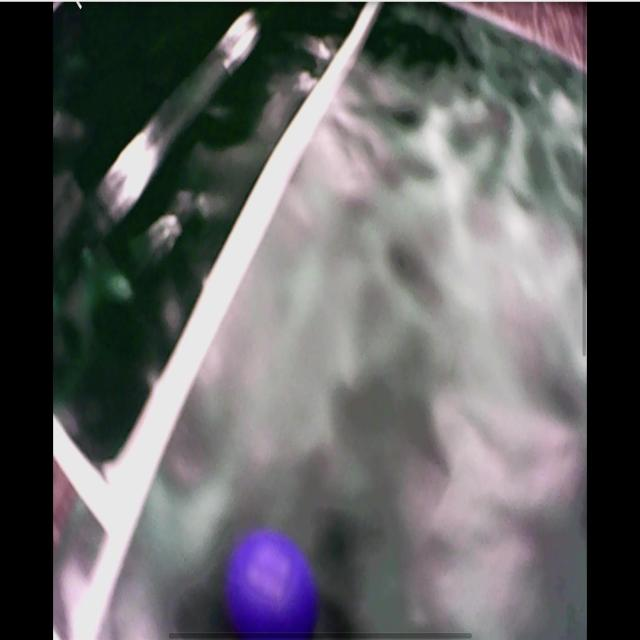ball: (229, 540, 317, 638)
